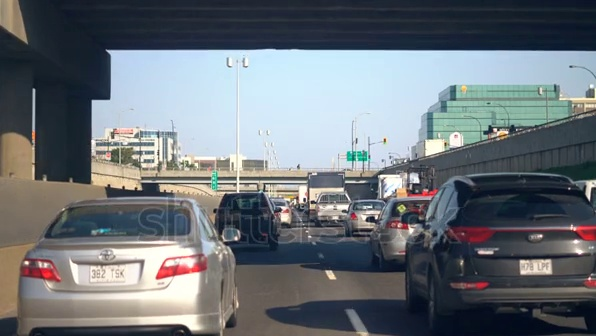licenseplate: (89, 266, 132, 291), (517, 256, 555, 281)
